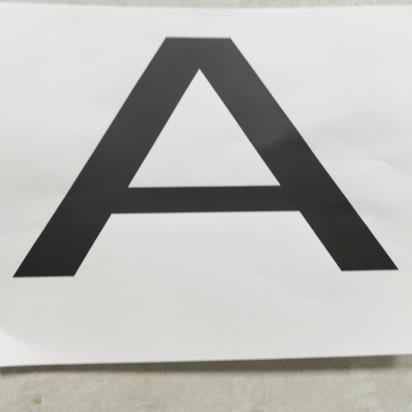seat: (8, 18, 412, 297)
